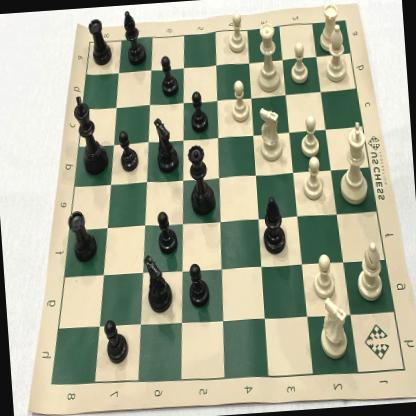black-bishop: (258, 192, 289, 257), (121, 7, 148, 67)
black-king: (72, 90, 111, 178)
black-knight: (140, 250, 174, 316), (152, 114, 180, 176)
black-pawn: (103, 316, 132, 366), (156, 51, 182, 101), (155, 209, 181, 258), (116, 128, 140, 176), (186, 260, 209, 310), (186, 89, 210, 135)
black-queen: (184, 142, 218, 220)
black-rook: (66, 205, 100, 264), (86, 14, 113, 70)
white-bishop: (353, 238, 388, 304), (322, 22, 349, 84)
white-king: (332, 118, 374, 208)
white-knight: (316, 294, 350, 362), (254, 104, 286, 167)
white-pawn: (310, 250, 338, 300), (300, 154, 326, 204), (224, 8, 249, 57), (228, 76, 252, 125), (287, 40, 311, 86), (298, 112, 322, 158)
white-queen: (251, 19, 283, 95)
white-rook: (316, 0, 342, 54)
